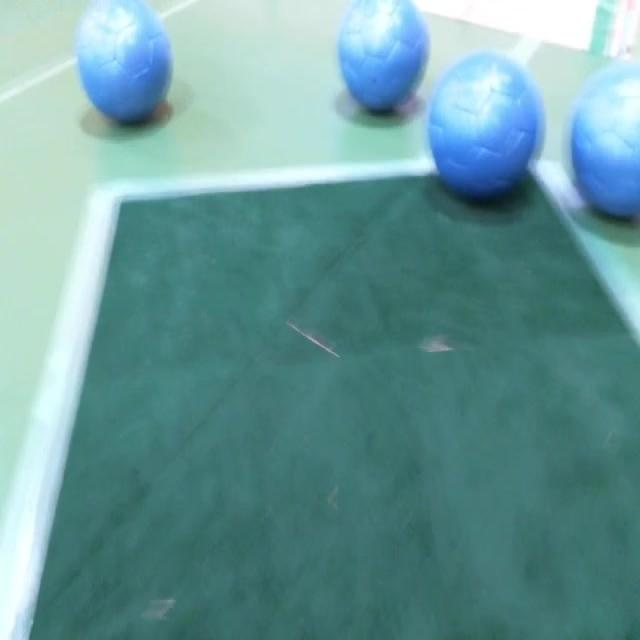blue_ball: (428, 49, 542, 207), (78, 0, 174, 127), (570, 58, 640, 217), (338, 0, 428, 114)
